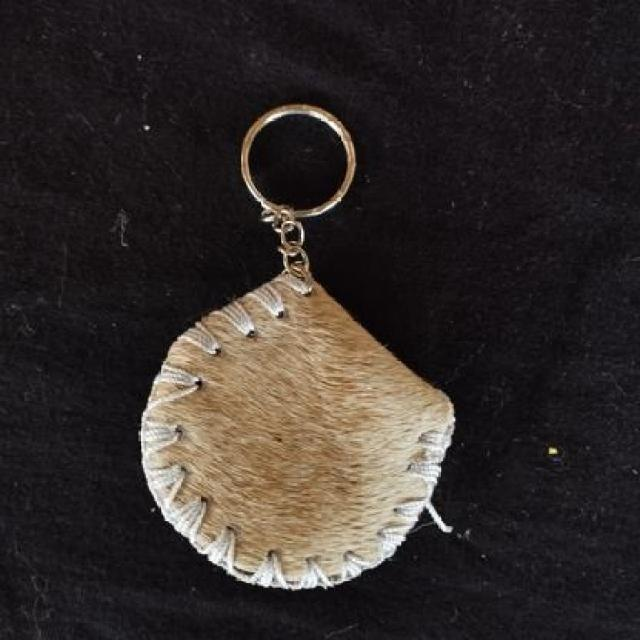Llavero: (137, 263, 457, 592)
